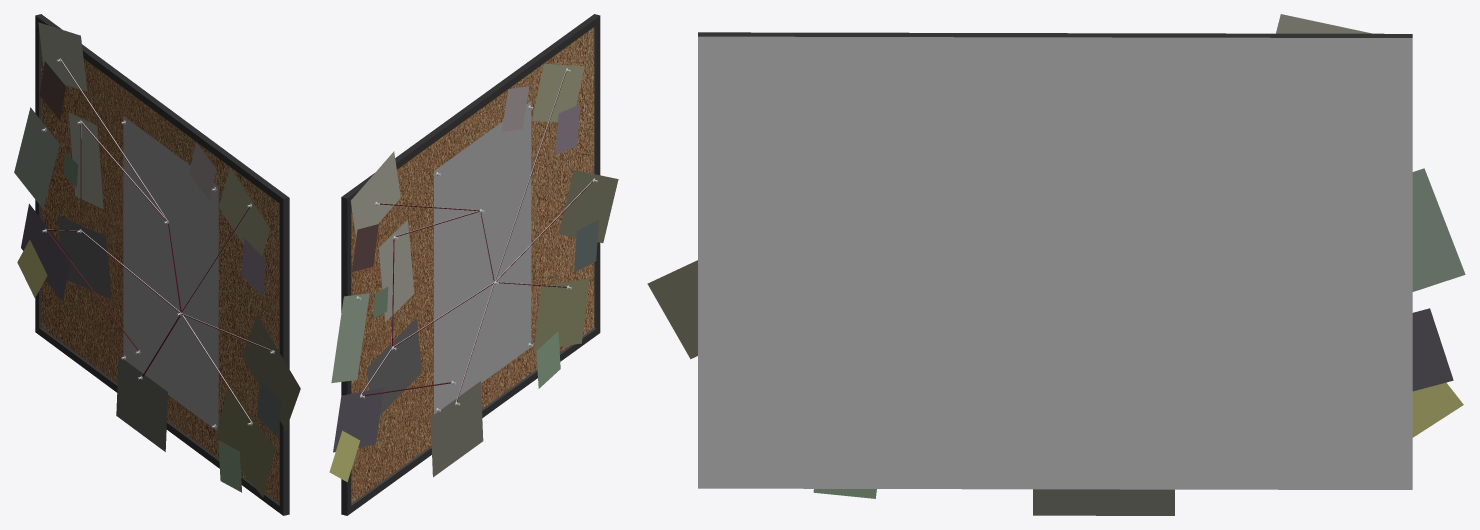
File: ClueBoardA.fbx
3 renders of one model, left to right at view 1: azimuth 30°, elevation 25°; view 2: azimuth 150°, elevation 25°; view 3: azimuth 270°, elevation 25°, orthographic. The views are drawn at different scales.
Visible parts, largest first — view 1: pasted__Cube1; view 2: pasted__Cube1; view 3: pasted__Cube1.
Part boxes in pixels (x1=…): pasted__Cube1: x1=14, y1=14, x2=300, y2=515; pasted__Cube1: x1=329, y1=14, x2=618, y2=515; pasted__Cube1: x1=647, y1=14, x2=1465, y2=515.
Bounding box in the file's own units: 0.2123 × 5.43 × 8.
